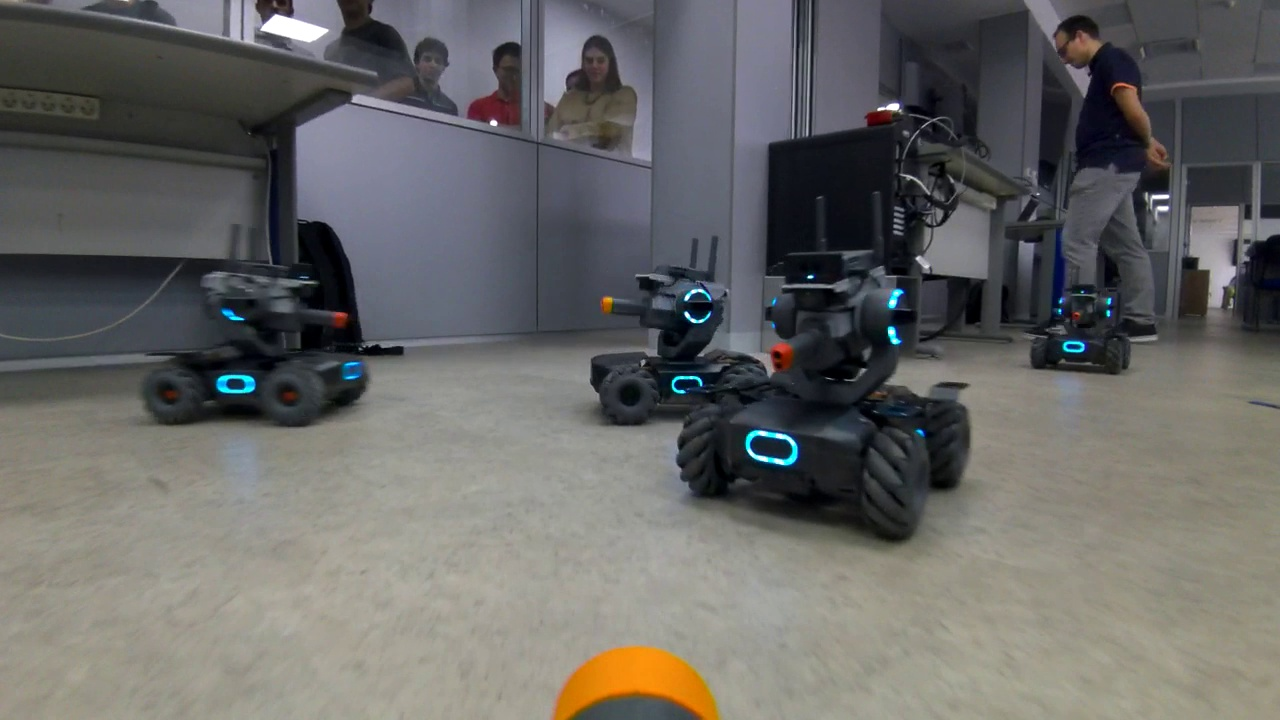robot: (672, 188, 979, 545), (132, 211, 374, 434), (568, 222, 780, 421), (1034, 261, 1132, 376)
